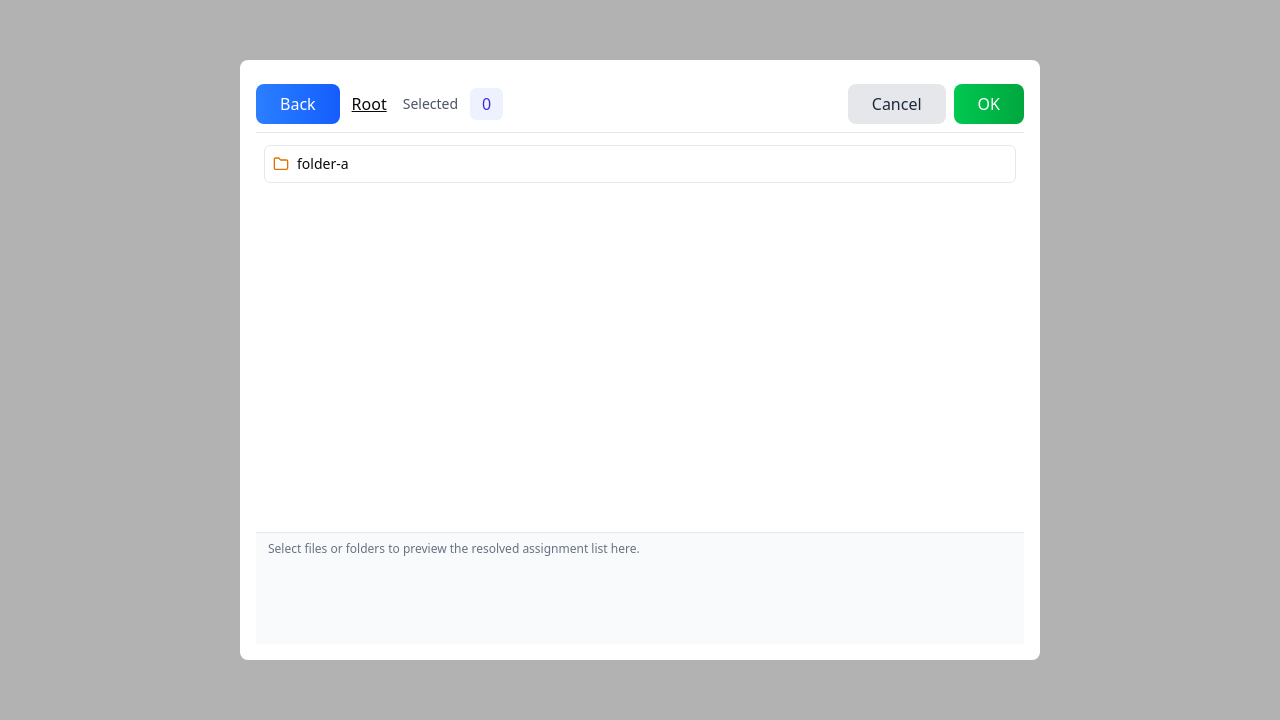
Test case: InAppExplorer › does not lazy-load subtree when folder children are already available in memory
Double-click the text "folder-a" at (323, 164), box left=297, top=154, right=349, bottom=174
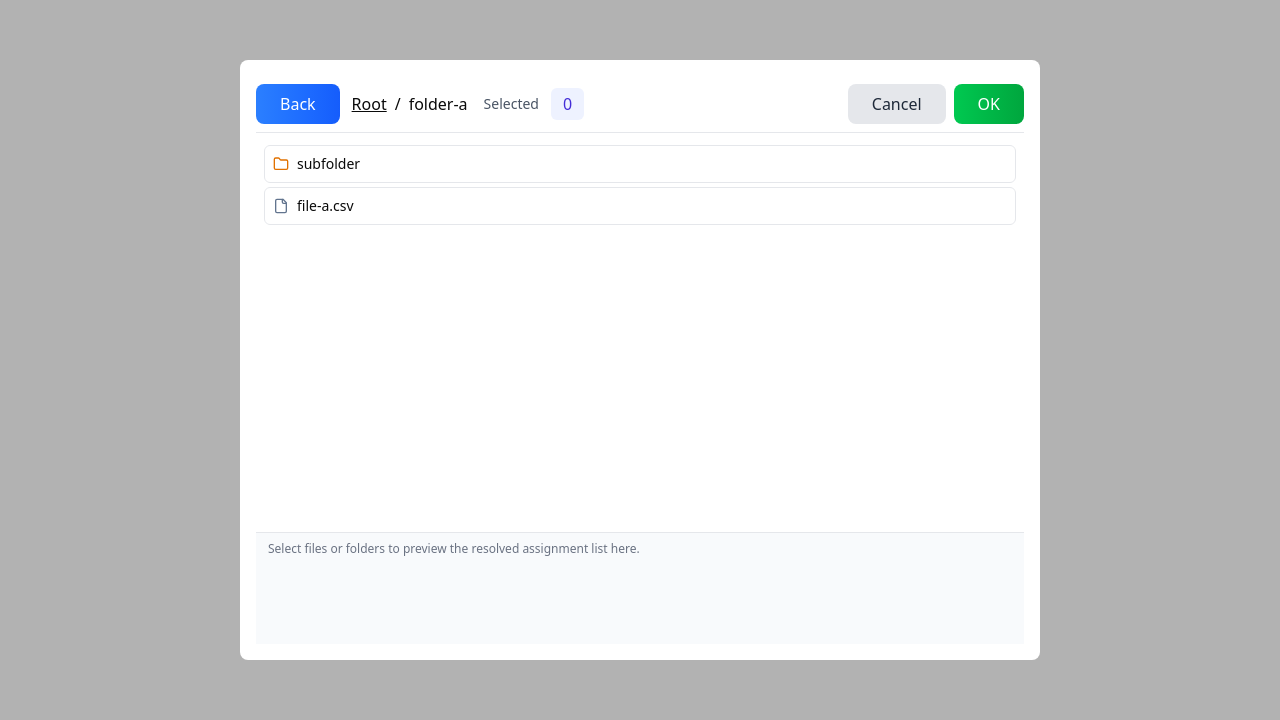
Expected: the text "subfolder" is shown, left=297, top=154, right=360, bottom=174
